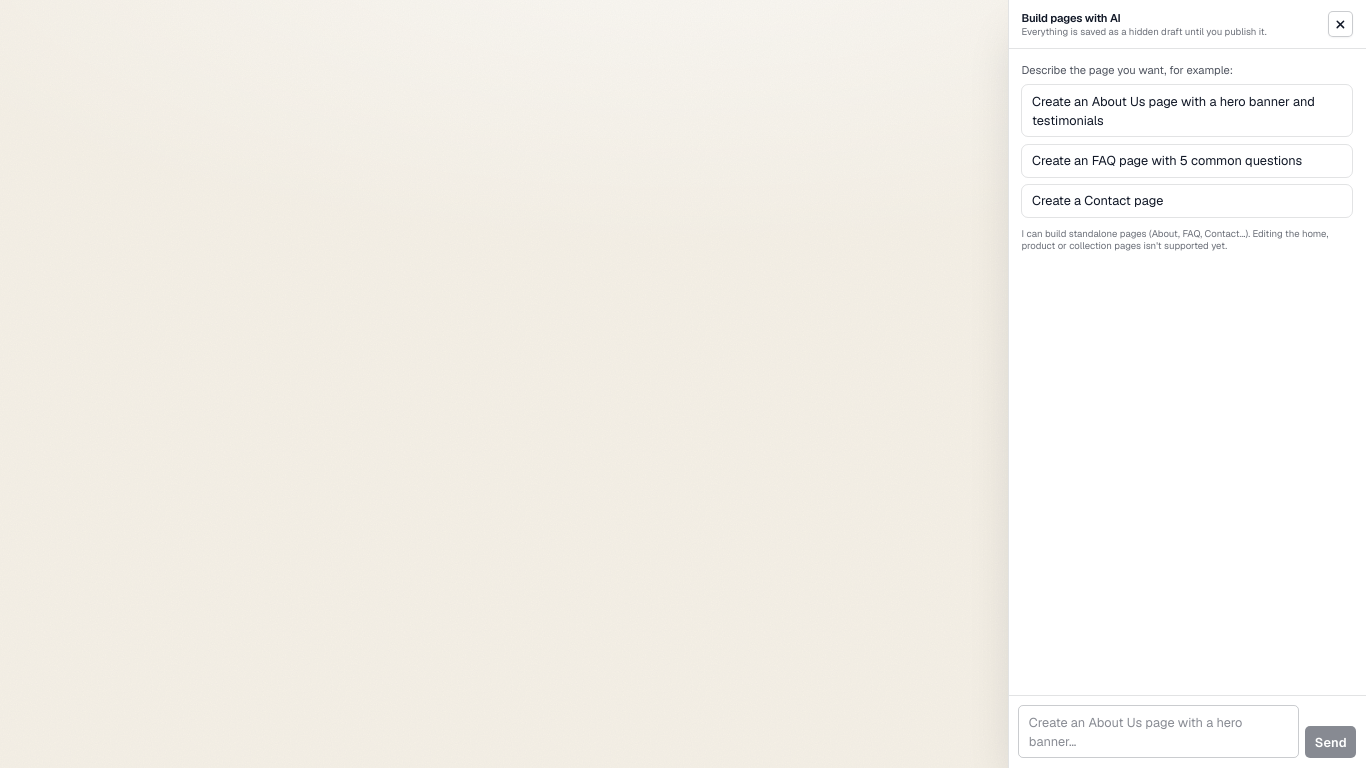
Scenario: AiPageBuilderPanel › publishes and discards through the server, then shows the result
In the text box named "Your request": point(1158, 732) 1018,705 -> 1299,758, type "go"
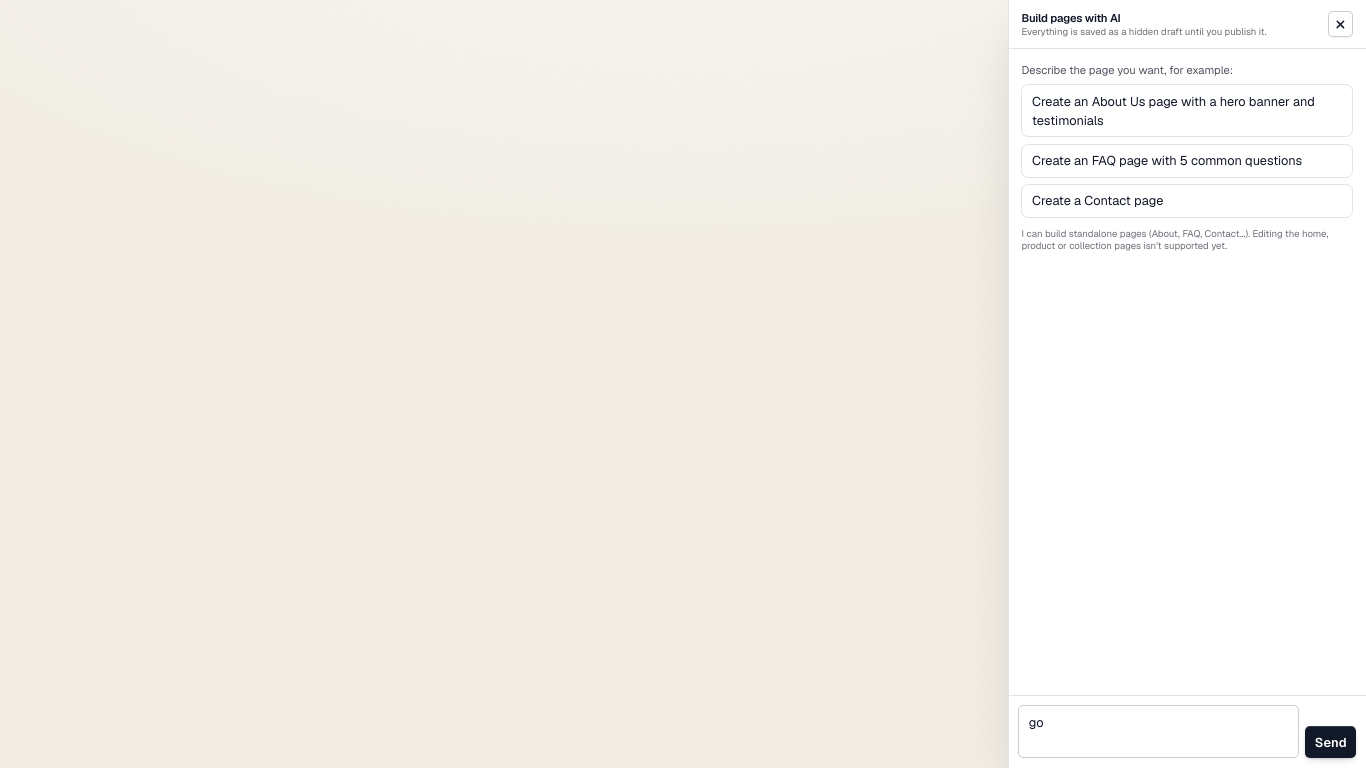
Click the button "Send": point(1331, 742) 1305,726 -> 1356,758
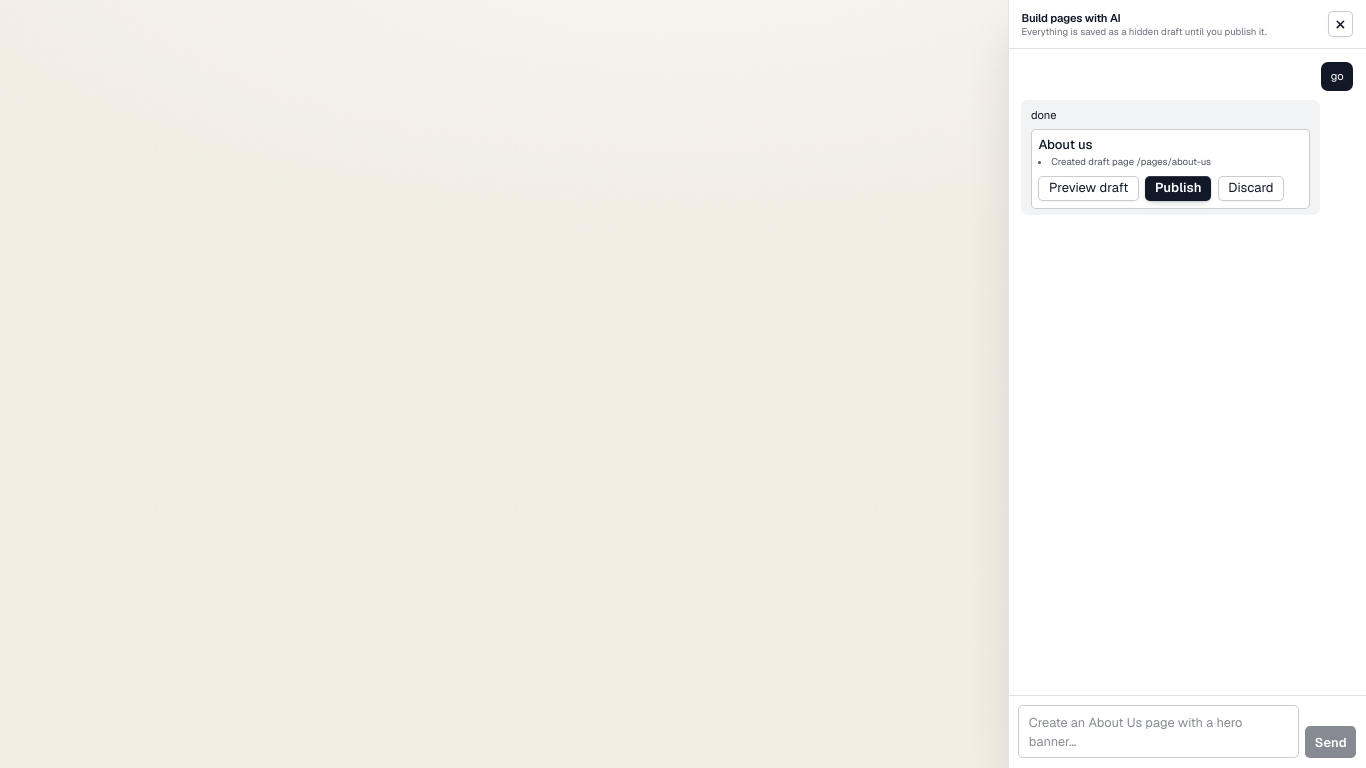
Click the button "Publish": point(1178, 188) 1145,176 -> 1211,201
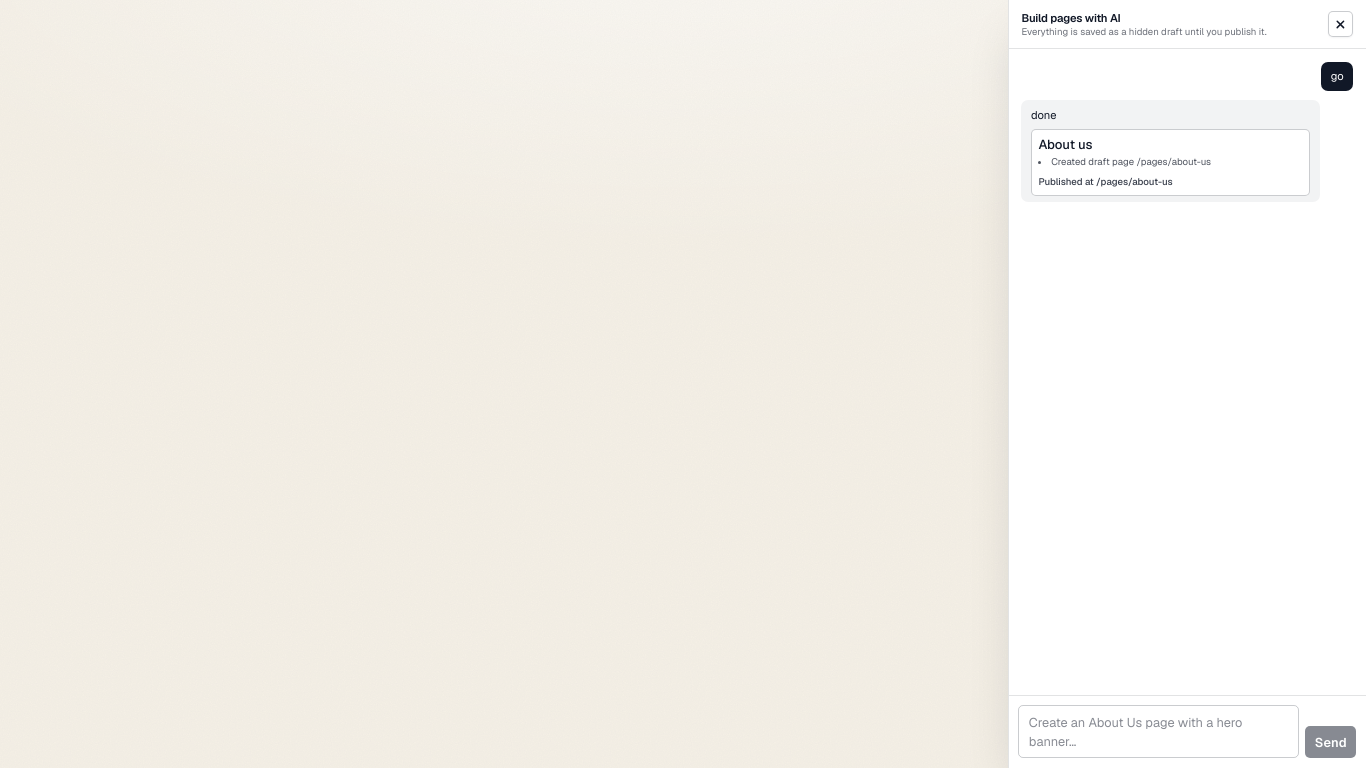
Expected: the text "Published at /pages/about-us" is shown, 1038,175 -> 1173,188
